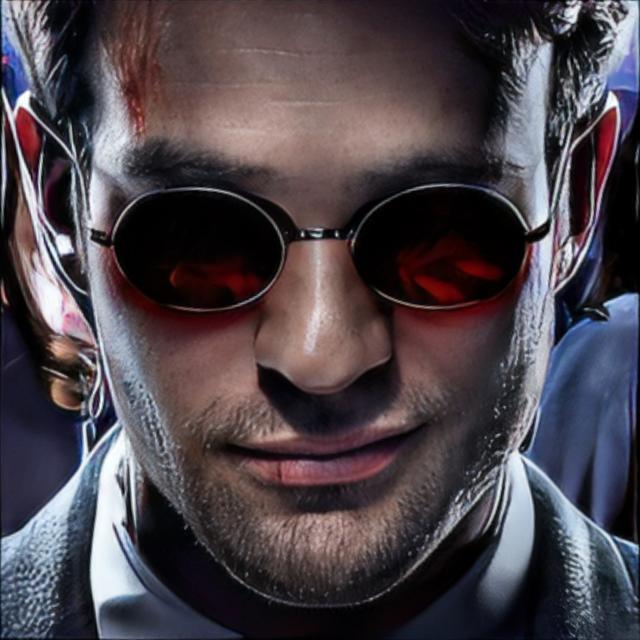content: (81, 0, 557, 601)
